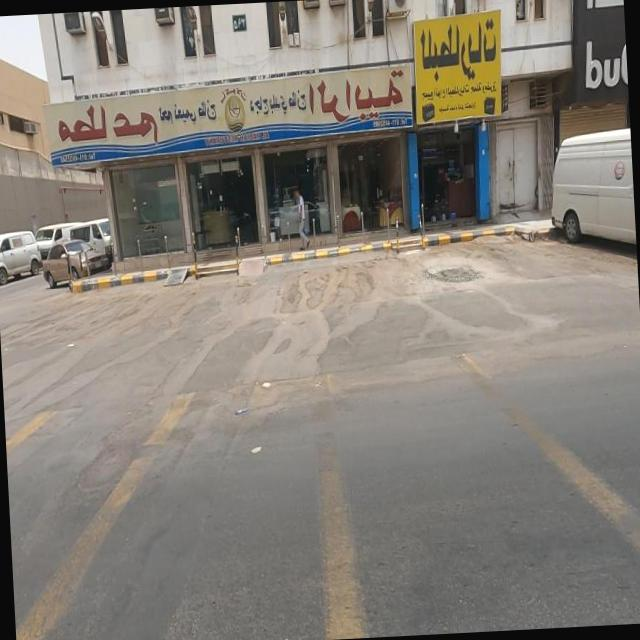debris: (194, 334, 320, 456), (226, 413, 292, 486)
